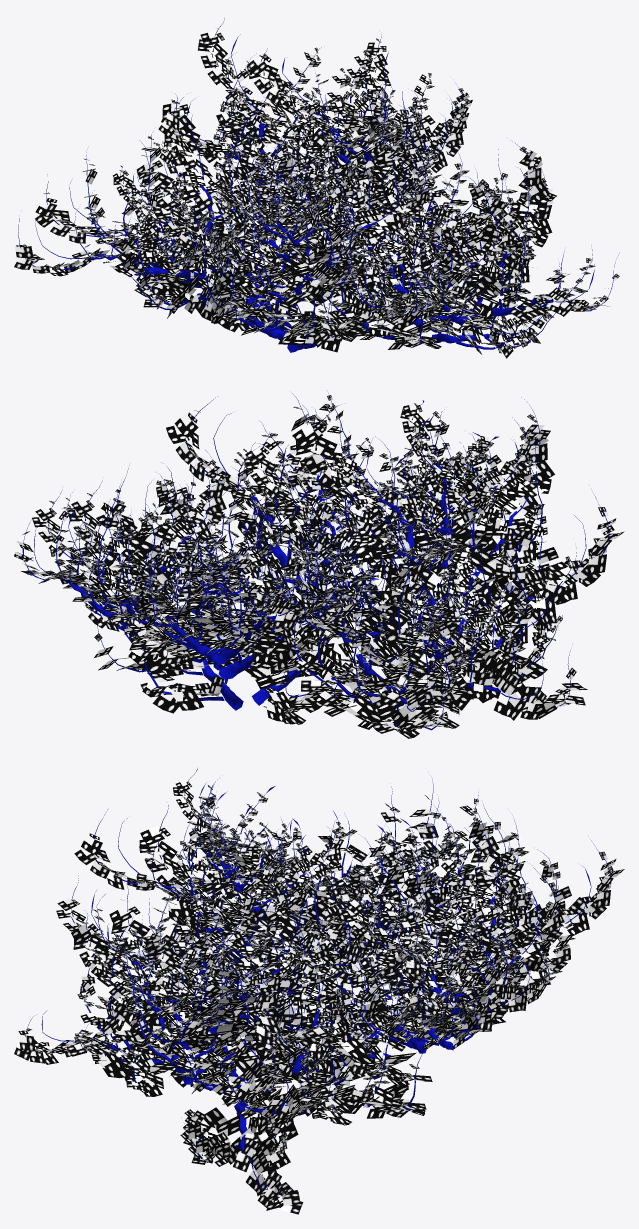
The model's file is feuillage_1.fbx.
The picture shows the model from 3 angles, top to bottom: view 1: azimuth 30°, elevation 25°; view 2: azimuth 150°, elevation 25°; view 3: azimuth 270°, elevation 25°; orthographic projection. The views are drawn at different scales.
Parts seen in each view (by area): view 1: feuillage1; view 2: feuillage1; view 3: feuillage1.
Part boxes in pixels (<box>): feuillage1: <box>14,18,619,358</box>; feuillage1: <box>14,393,624,738</box>; feuillage1: <box>14,768,624,1214</box>.
Size of the model in its own units: 1483 by 794 by 1470.
